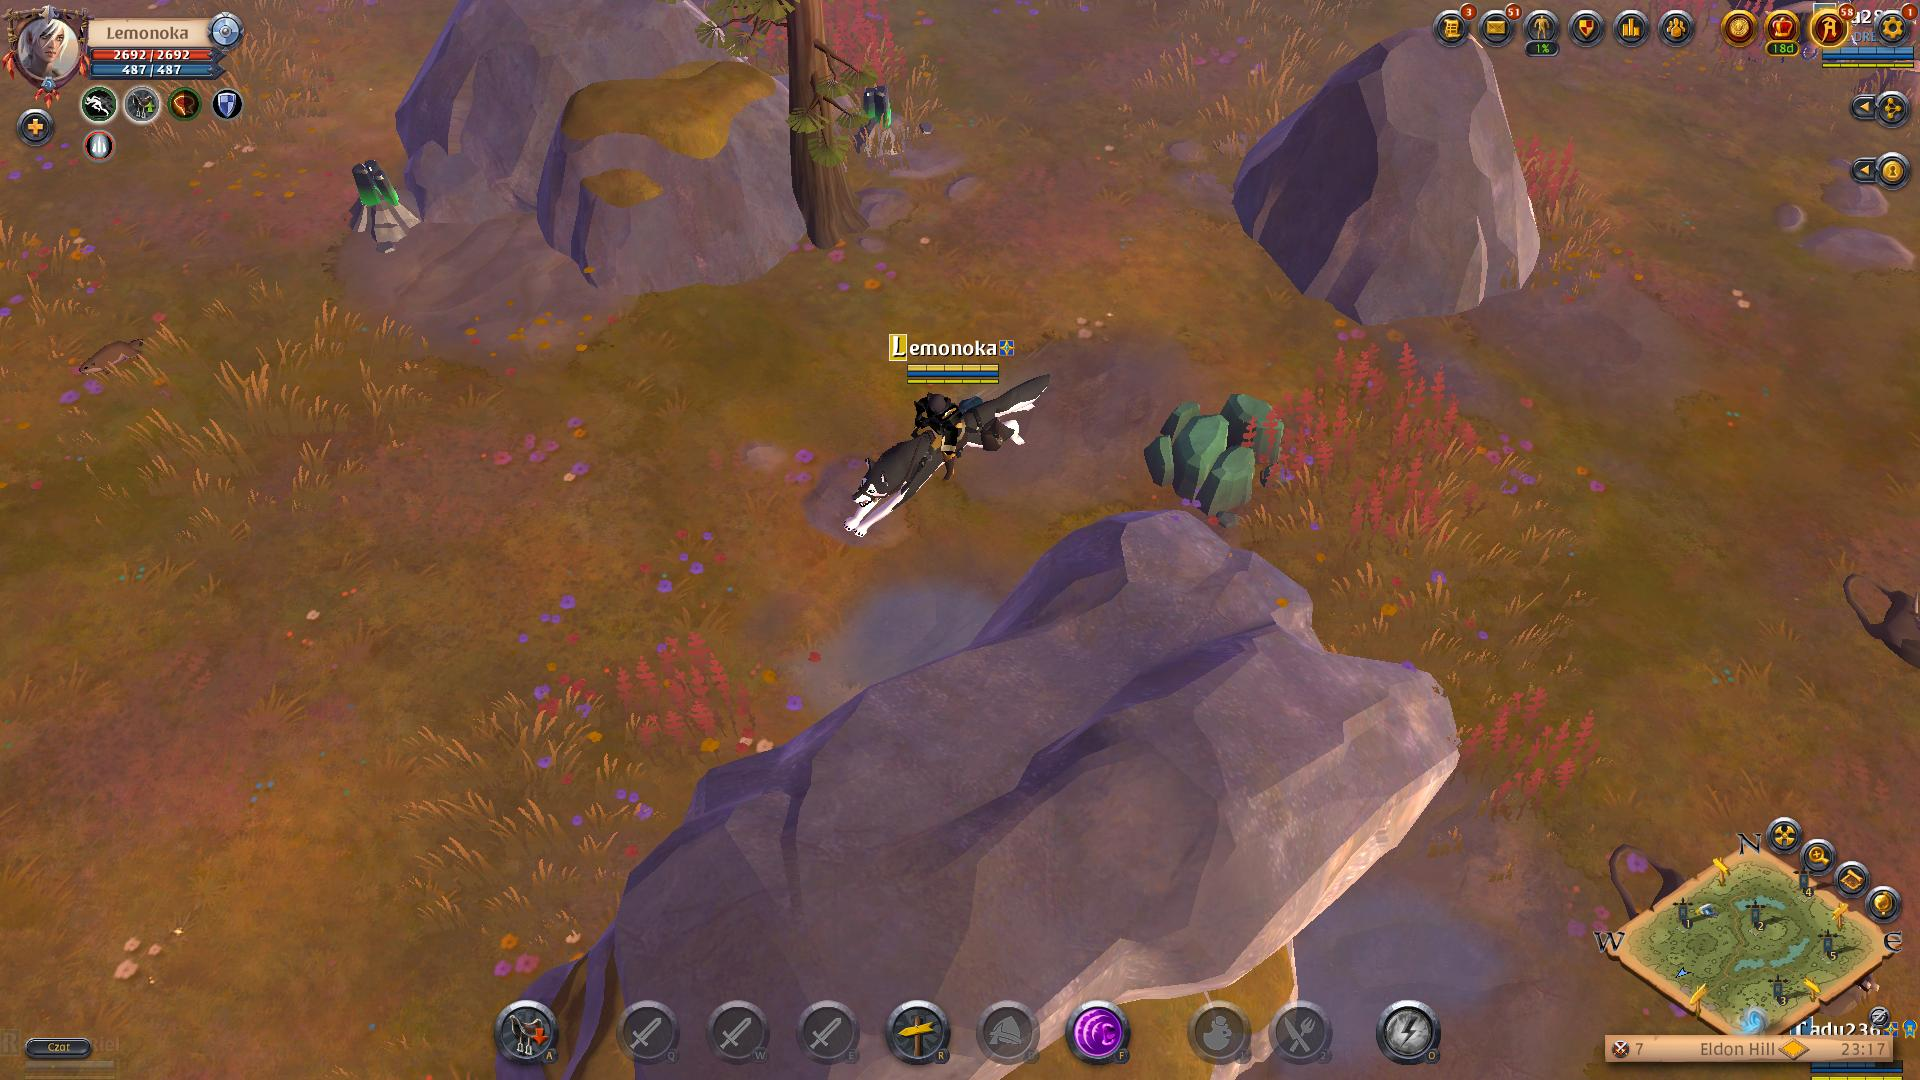ore tier 3: (342, 157, 427, 248), (853, 84, 916, 169)
rock tier 3: (1141, 388, 1288, 513)
